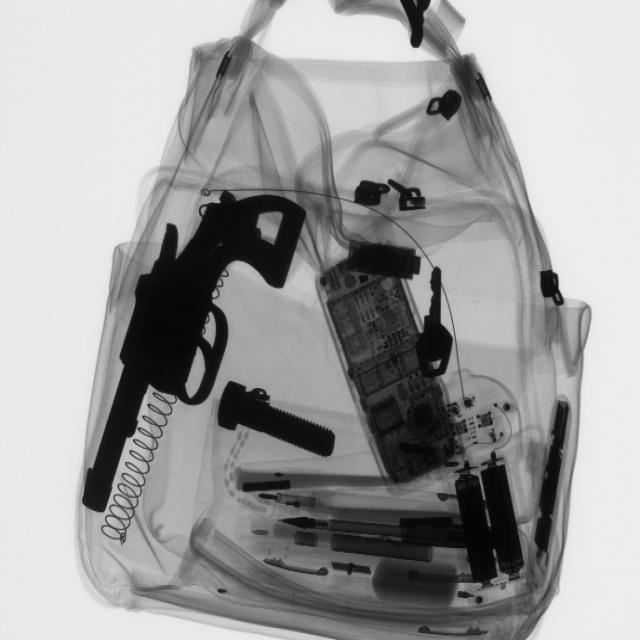GUN: (81, 180, 313, 512)
